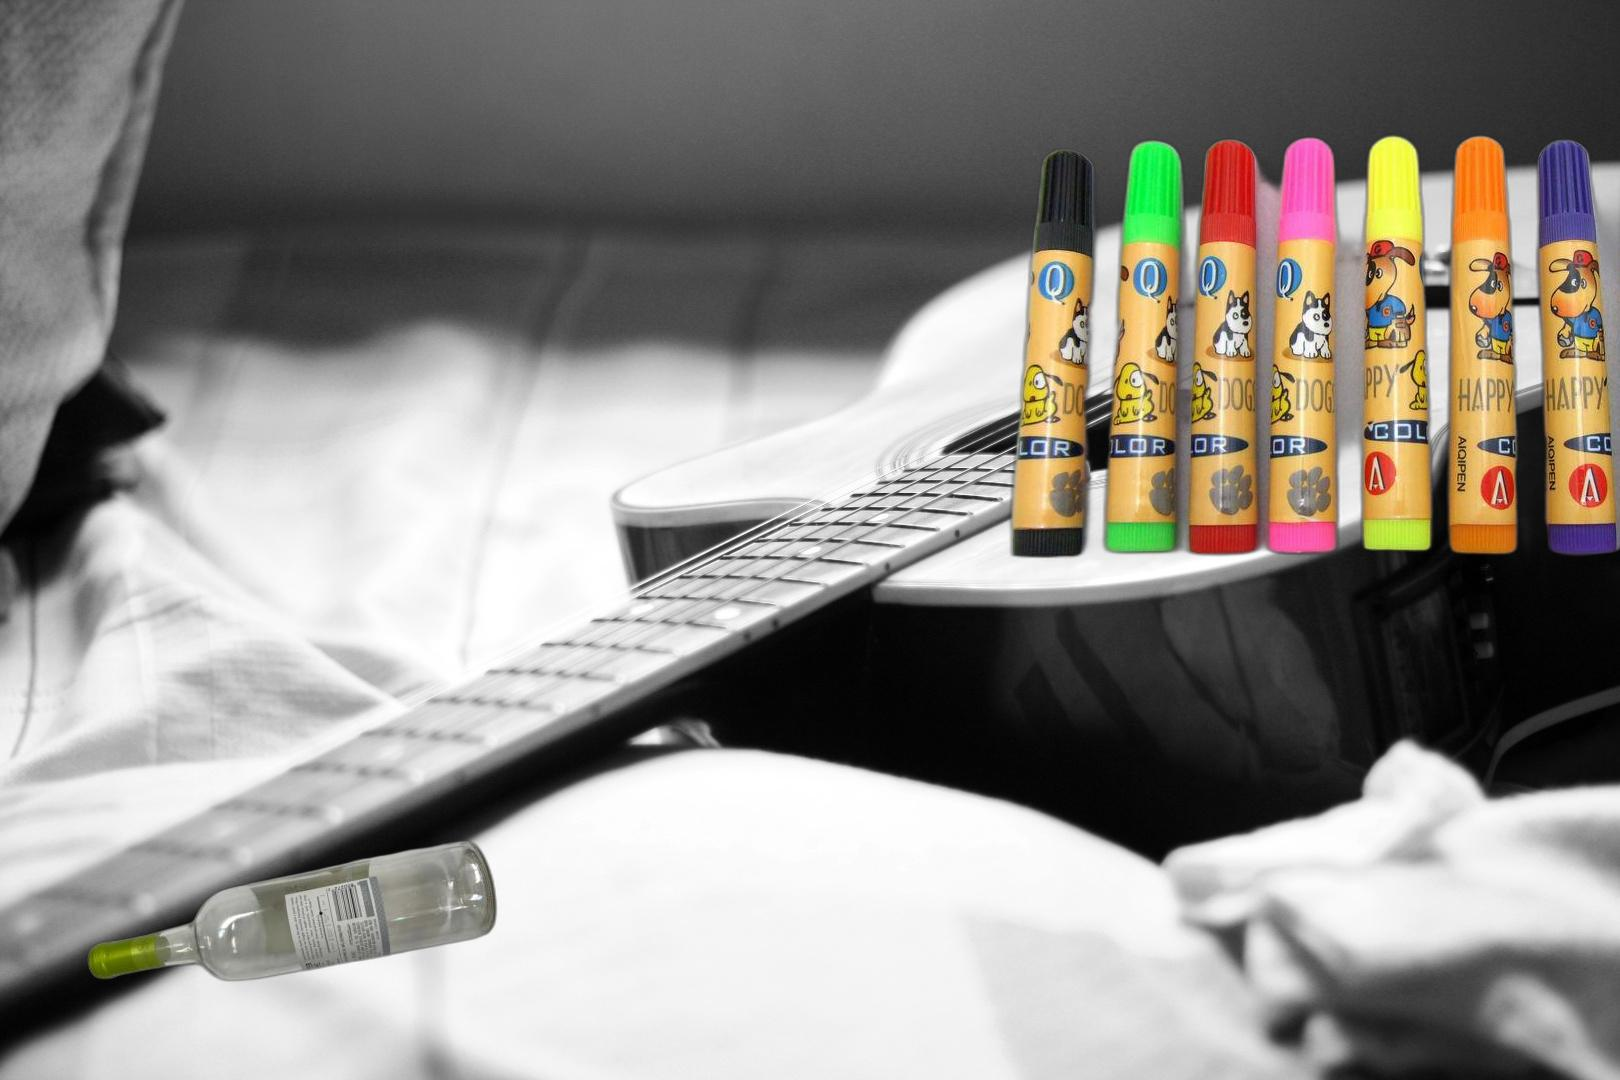glass: (84, 838, 501, 984)
penholder: (1004, 130, 1620, 562)
